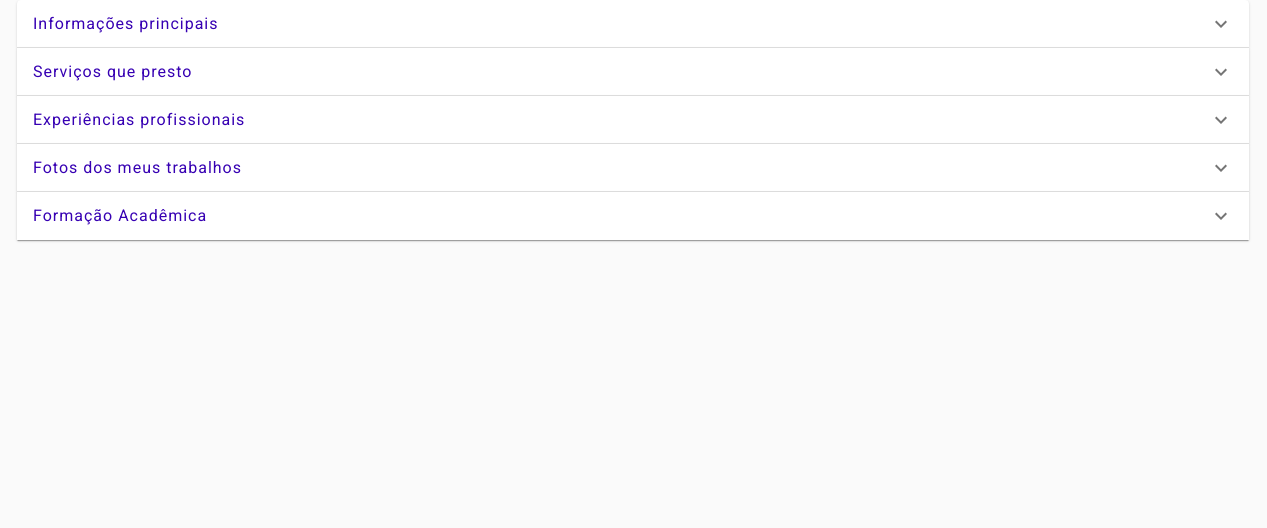
Test case: should expand accordion on click
Click the button "Fotos dos meus trabalhos" at point(138, 168), box [33,156,1233,180]
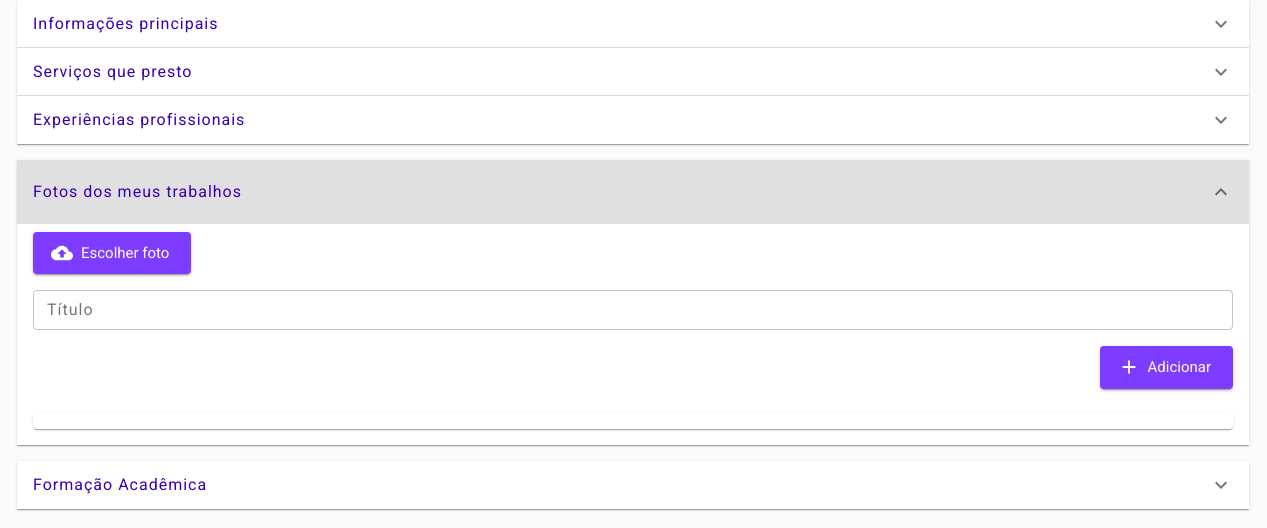
Expected: the field labelled "Título" is shown, [33,290,1233,330]
